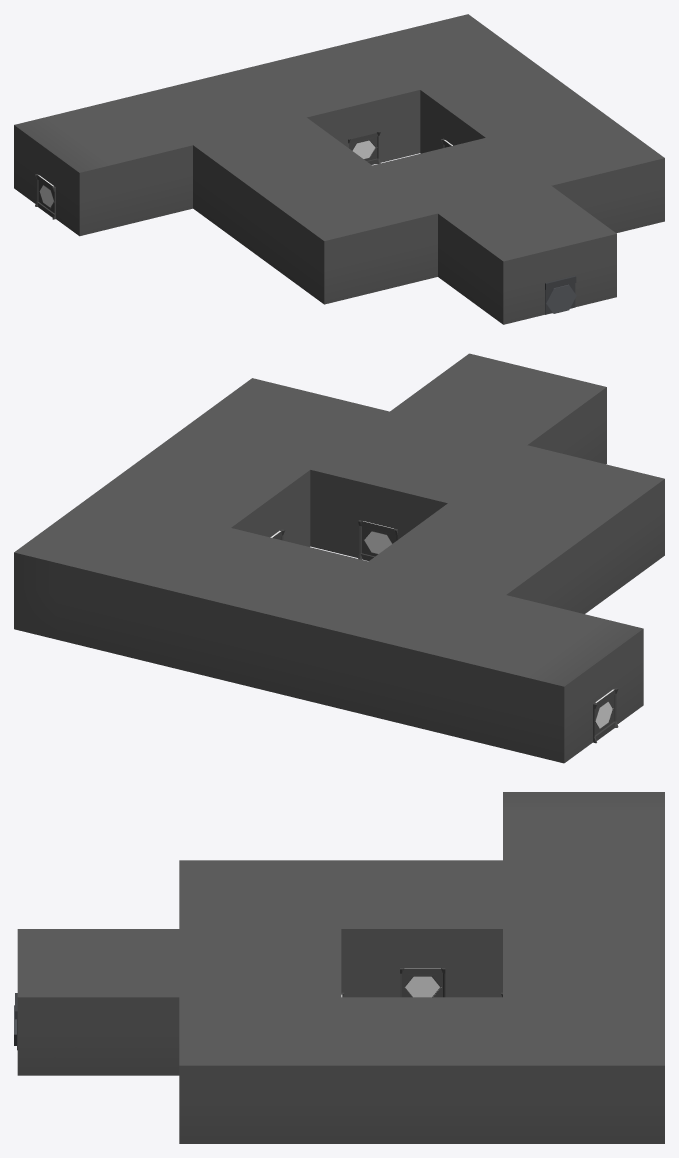
Rendered from demoRoom0.0.3.fbx.
3 views of the same model, one above another, from view 1: azimuth 30°, elevation 25°; view 2: azimuth 150°, elevation 25°; view 3: azimuth 270°, elevation 25° (orthographic). The views are drawn at different scales.
Visible parts, largest first — view 1: Cube, Wall/Window.005, Wall/Window.002, Door.001; view 2: Cube, Wall/Window.006, Wall/Window.002; view 3: Cube, Wall/Window.003.
Boxes of the visible parts, <box> form: Cube: <box>14,14,664,324</box>; Wall/Window.005: <box>348,131,380,164</box>; Wall/Window.002: <box>35,174,55,219</box>; Door.001: <box>545,284,576,313</box>; Cube: <box>14,353,664,763</box>; Wall/Window.006: <box>358,520,397,560</box>; Wall/Window.002: <box>593,688,618,743</box>; Cube: <box>17,792,664,1143</box>; Wall/Window.003: <box>400,968,445,997</box>.
Size of the model in its own units: 60.36 by 60.33 by 8.04.
12 materials, 4 textured.
